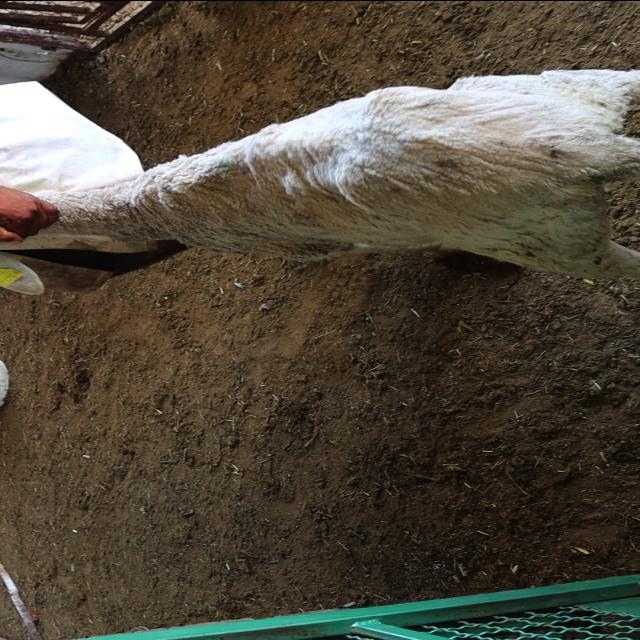Score_1: (42, 69, 639, 278)
